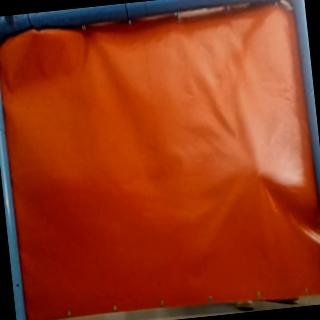Hit-hRxx: (251, 162, 265, 177)
